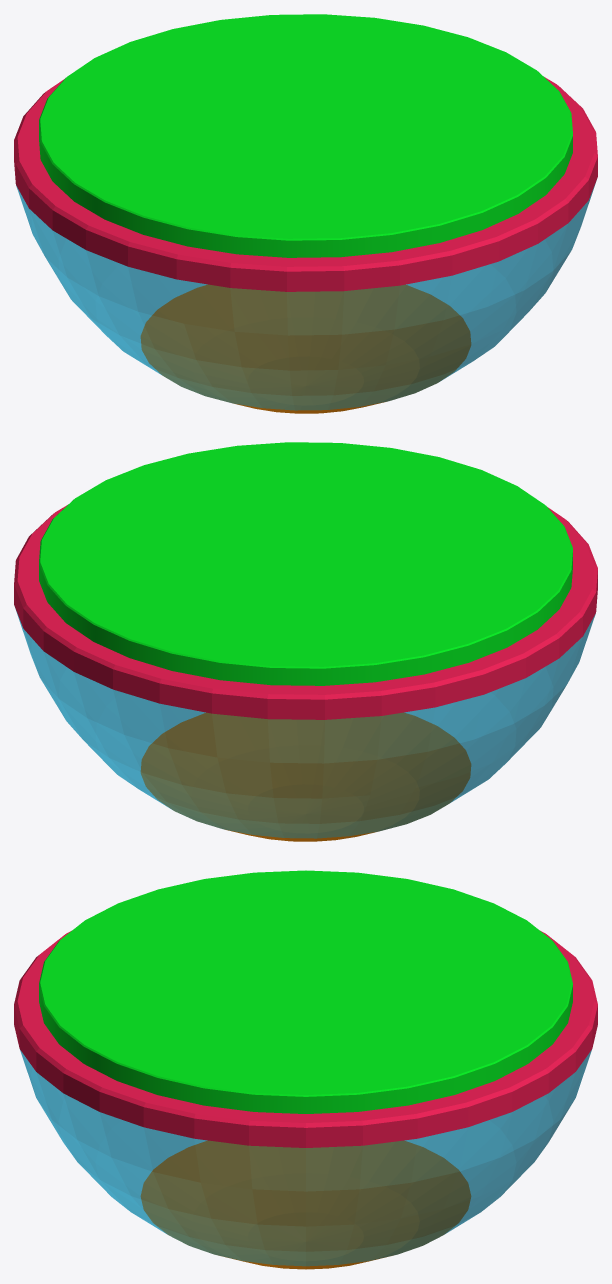
File: platform.gltf
The picture shows the model from 3 angles, top to bottom: view 1: azimuth 30°, elevation 25°; view 2: azimuth 150°, elevation 25°; view 3: azimuth 270°, elevation 25°; orthographic projection.
Parts seen in each view (by area): view 1: Hover, Sphere; view 2: Hover, Sphere; view 3: Hover, Sphere.
Boxes of the visible parts, x1,y1,x2,y2 form: Hover: (39, 14, 572, 257); Sphere: (14, 77, 597, 413); Hover: (39, 442, 572, 685); Sphere: (14, 505, 597, 841); Hover: (39, 870, 572, 1113); Sphere: (14, 931, 597, 1269).
Size of the model in its own units: 3.92 by 1.92 by 3.92.
